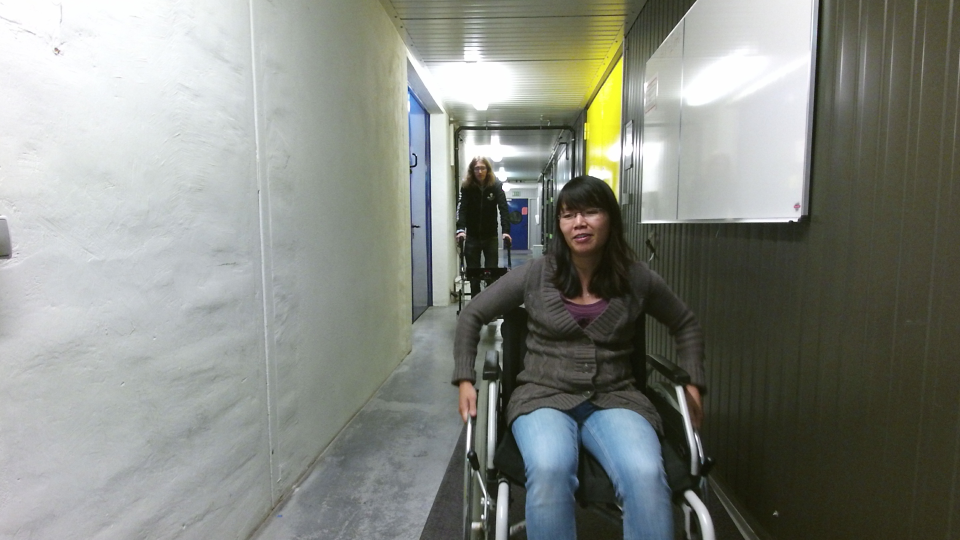wheelchair: (443, 175, 719, 540)
